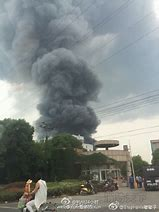smoke: (1, 1, 99, 139)
